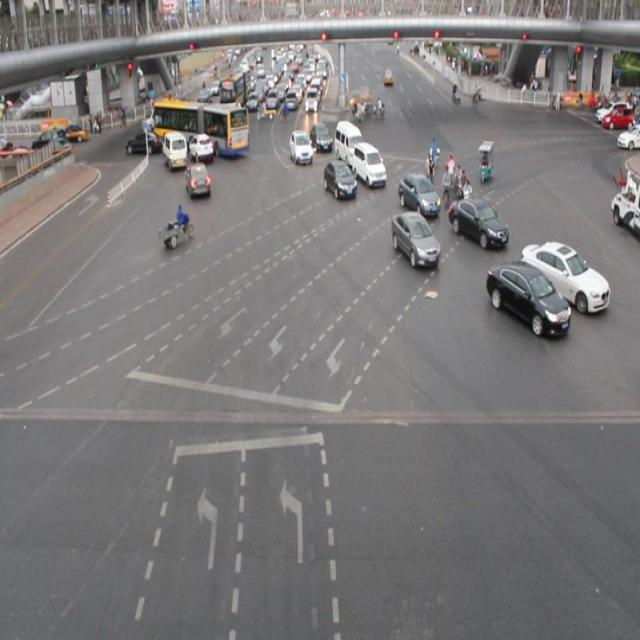car: (521, 240, 607, 310), (485, 263, 568, 334), (448, 196, 507, 248), (389, 211, 439, 270), (398, 172, 440, 216), (352, 142, 386, 186), (323, 160, 356, 200), (125, 130, 161, 158), (185, 163, 213, 198), (287, 129, 312, 166), (189, 132, 214, 164), (310, 123, 331, 152)
truck: (334, 120, 364, 166), (163, 130, 188, 169)
van: (153, 98, 249, 153)
